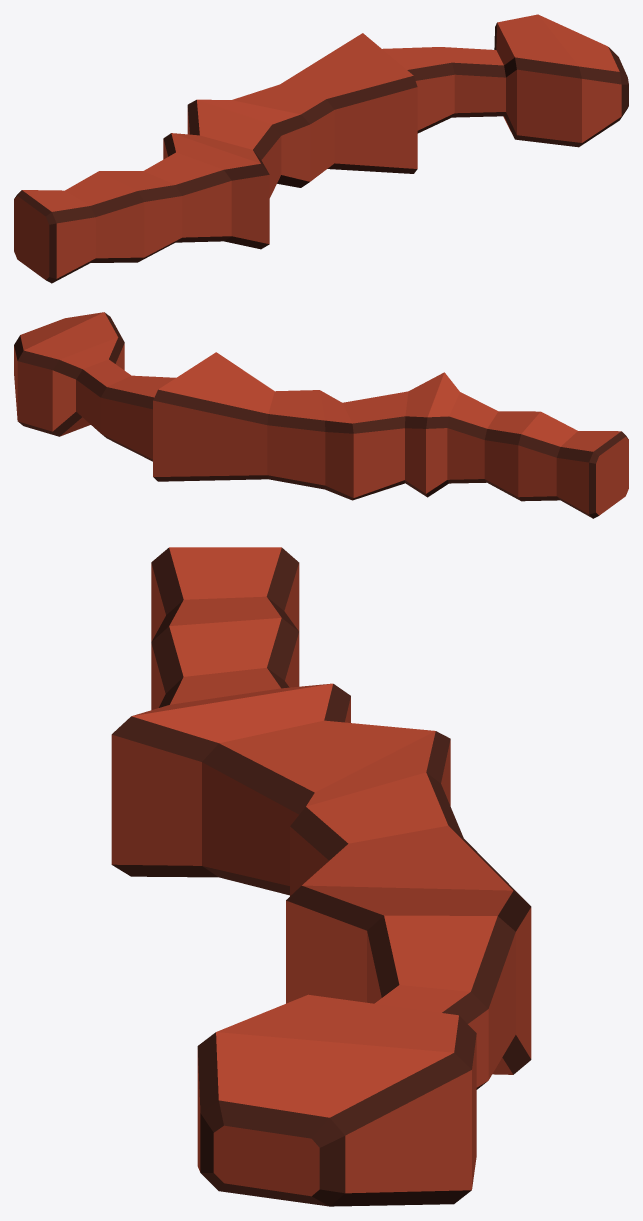
Rendered from Antenna.fbx.
The picture shows the model from 3 angles, top to bottom: view 1: azimuth 30°, elevation 25°; view 2: azimuth 150°, elevation 25°; view 3: azimuth 270°, elevation 25°; orthographic projection. The views are drawn at different scales.
Visible parts, largest first — view 1: Antenna; view 2: Antenna; view 3: Antenna.
Part boxes in pixels (bbox=[...]): Antenna: bbox=[14, 14, 628, 283]; Antenna: bbox=[14, 312, 628, 518]; Antenna: bbox=[111, 547, 531, 1206].
Size of the model in its own units: 123 by 388 by 59.61.
